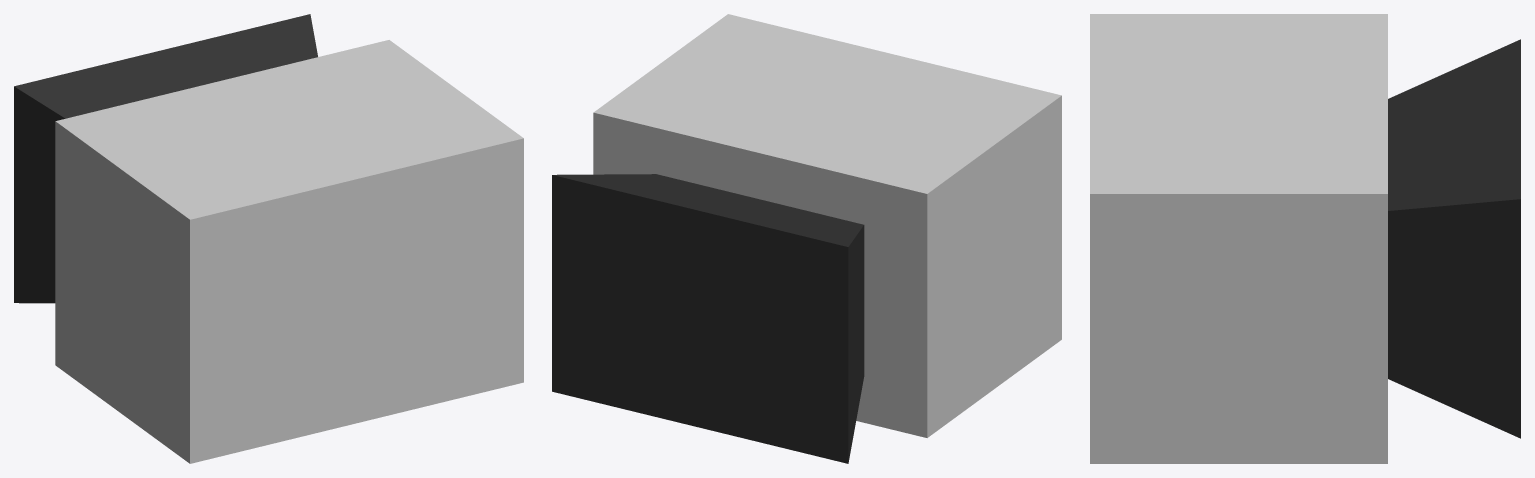
The model's file is camera.obj.
3 renders of one model, left to right at view 1: azimuth 30°, elevation 25°; view 2: azimuth 150°, elevation 25°; view 3: azimuth 270°, elevation 25°, orthographic. The views are drawn at different scales.
Parts seen in each view (by area): view 1: Cube; view 2: Cube; view 3: Cube.
Part boxes in pixels (<box>): Cube: <box>14,14,523,463</box>; Cube: <box>552,14,1061,463</box>; Cube: <box>1090,14,1520,463</box>.
Bounding box in the file's own units: 2.21 × 1.54 × 2.23.
